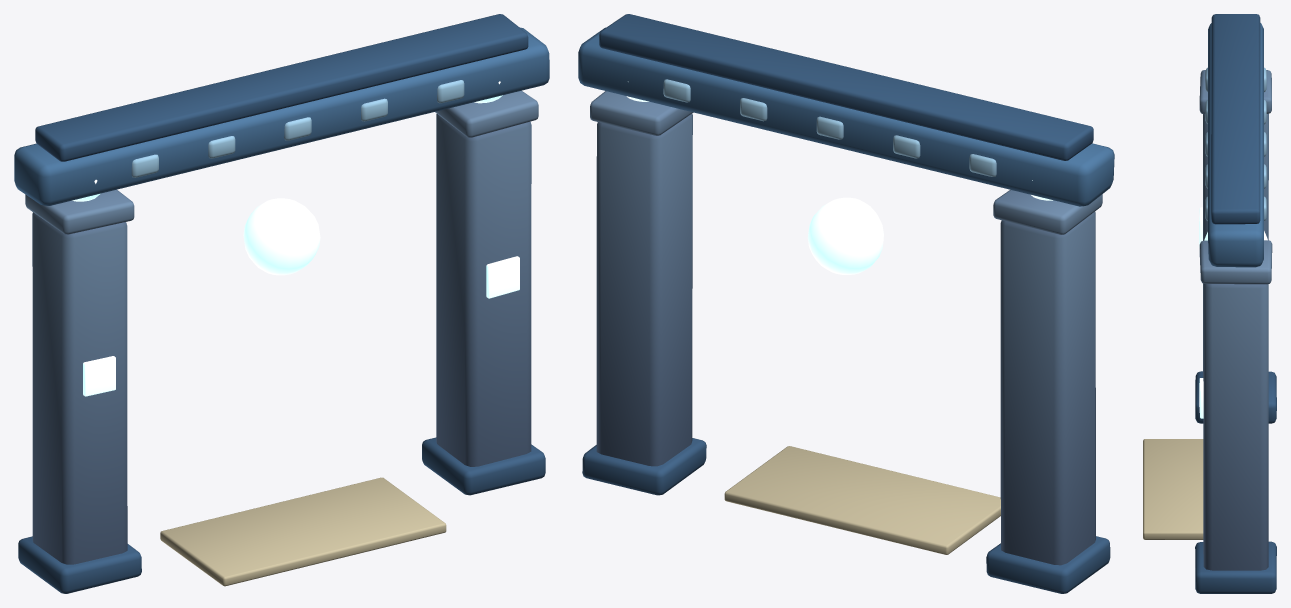
3 renders of one model, left to right at view 1: azimuth 30°, elevation 25°; view 2: azimuth 150°, elevation 25°; view 3: azimuth 270°, elevation 25°, orthographic. The views are drawn at different scales.
Parts seen in each view (by area): view 1: gate_a682ccf2; view 2: gate_a682ccf2; view 3: gate_a682ccf2.
Part boxes in pixels (<box>): gate_a682ccf2: <box>14,14,549,593</box>; gate_a682ccf2: <box>578,14,1114,593</box>; gate_a682ccf2: <box>1143,14,1276,593</box>.
Bounding box in the file's own units: 5.49 × 4.54 × 1.44.
